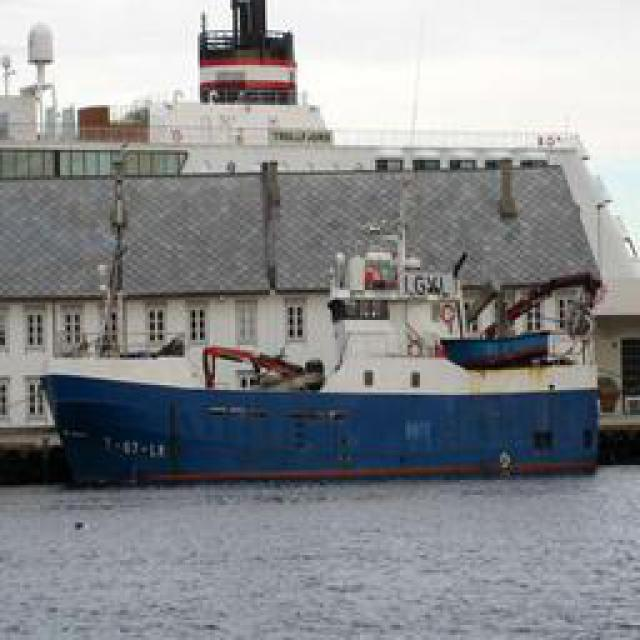Ship: (38, 251, 593, 484)
